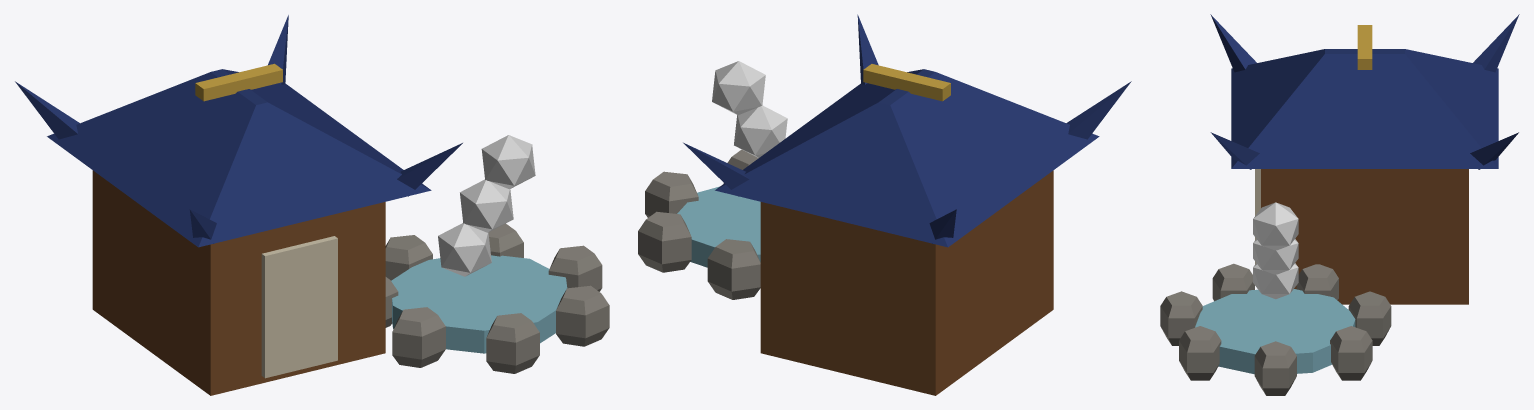
Rendered from macaque_house_c_broken.glb.
3 views of the same model, side by side, from view 1: azimuth 30°, elevation 25°; view 2: azimuth 150°, elevation 25°; view 3: azimuth 270°, elevation 25° (orthographic). The views are drawn at different scales.
Visible parts, largest first — view 1: macaque_house_c_piece2, macaque_house_c_piece1, macaque_house_c_piece11, macaque_house_c_piece7, macaque_house_c_piece4, macaque_house_c_piece6, macaque_house_c_piece8, macaque_house_c_piece9, macaque_house_c_piece0, macaque_house_c_piece3, macaque_house_c_piece12, macaque_house_c_piece5; view 2: macaque_house_c_piece6, macaque_house_c_piece4, macaque_house_c_piece2, macaque_house_c_piece0, macaque_house_c_piece12, macaque_house_c_piece7, macaque_house_c_piece9, macaque_house_c_piece3, macaque_house_c_piece1, macaque_house_c_piece10, macaque_house_c_piece8, macaque_house_c_piece5; view 3: macaque_house_c_piece9, macaque_house_c_piece1, macaque_house_c_piece4, macaque_house_c_piece8, macaque_house_c_piece7, macaque_house_c_piece12, macaque_house_c_piece2, macaque_house_c_piece6, macaque_house_c_piece3, macaque_house_c_piece10, macaque_house_c_piece5, macaque_house_c_piece11.
Boxes of the visible parts, <box> form: macaque_house_c_piece2: <box>130,84,384,356</box>; macaque_house_c_piece1: <box>290,246,609,376</box>; macaque_house_c_piece11: <box>204,234,417,395</box>; macaque_house_c_piece7: <box>394,137,584,314</box>; macaque_house_c_piece4: <box>92,112,325,372</box>; macaque_house_c_piece6: <box>15,81,177,258</box>; macaque_house_c_piece8: <box>303,124,512,251</box>; macaque_house_c_piece9: <box>164,63,358,140</box>; macaque_house_c_piece0: <box>92,146,151,303</box>; macaque_house_c_piece3: <box>385,223,507,280</box>; macaque_house_c_piece12: <box>124,15,324,242</box>; macaque_house_c_piece5: <box>179,263,441,390</box>; macaque_house_c_piece6: <box>774,132,1018,344</box>; macaque_house_c_piece4: <box>760,202,1053,395</box>; macaque_house_c_piece2: <box>937,72,1131,268</box>; macaque_house_c_piece0: <box>746,146,1025,390</box>; macaque_house_c_piece12: <box>683,131,1030,328</box>; macaque_house_c_piece7: <box>638,62,787,271</box>; macaque_house_c_piece9: <box>761,64,943,156</box>; macaque_house_c_piece3: <box>638,217,760,299</box>; macaque_house_c_piece1: <box>645,149,760,217</box>; macaque_house_c_piece10: <box>643,224,753,299</box>; macaque_house_c_piece8: <box>721,14,908,131</box>; macaque_house_c_piece5: <box>704,242,1051,332</box>; macaque_house_c_piece9: <box>1290,25,1435,238</box>; macaque_house_c_piece1: <box>1160,265,1317,395</box>; macaque_house_c_piece4: <box>1337,167,1468,304</box>; macaque_house_c_piece8: <box>1210,83,1358,229</box>; macaque_house_c_piece7: <box>1235,204,1365,380</box>; macaque_house_c_piece12: <box>1418,75,1518,224</box>; macaque_house_c_piece2: <box>1210,14,1369,199</box>; macaque_house_c_piece6: <box>1424,14,1519,141</box>; macaque_house_c_piece3: <box>1323,232,1386,373</box>; macaque_house_c_piece10: <box>1364,259,1462,357</box>; macaque_house_c_piece5: <box>1298,219,1350,327</box>; macaque_house_c_piece11: <box>1231,196,1322,295</box>.
Bounding box in the file's own units: 3.03 × 1.67 × 2.42.
